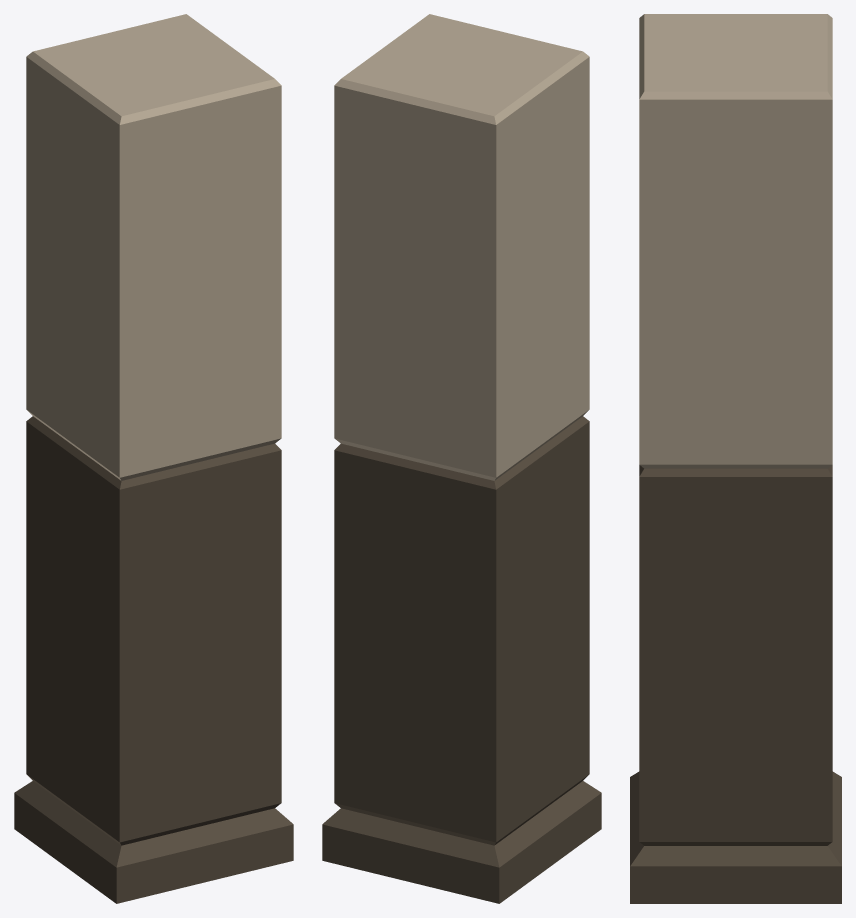
File: Pillar_Exterior_Floor_01.glb
The picture shows the model from 3 angles, left to right: view 1: azimuth 30°, elevation 25°; view 2: azimuth 150°, elevation 25°; view 3: azimuth 270°, elevation 25°; orthographic projection. The views are drawn at different scales.
Visible parts, largest first — view 1: SM_Env_Pillar_Exterior_Floor_01; view 2: SM_Env_Pillar_Exterior_Floor_01; view 3: SM_Env_Pillar_Exterior_Floor_01.
Part boxes in pixels (<box>): SM_Env_Pillar_Exterior_Floor_01: <box>14,14,293,903</box>; SM_Env_Pillar_Exterior_Floor_01: <box>322,14,601,903</box>; SM_Env_Pillar_Exterior_Floor_01: <box>630,14,841,903</box>.
Bounding box in the file's own units: 0.7137 × 3 × 0.7137.
Materials: 1 (1 with a texture image).
